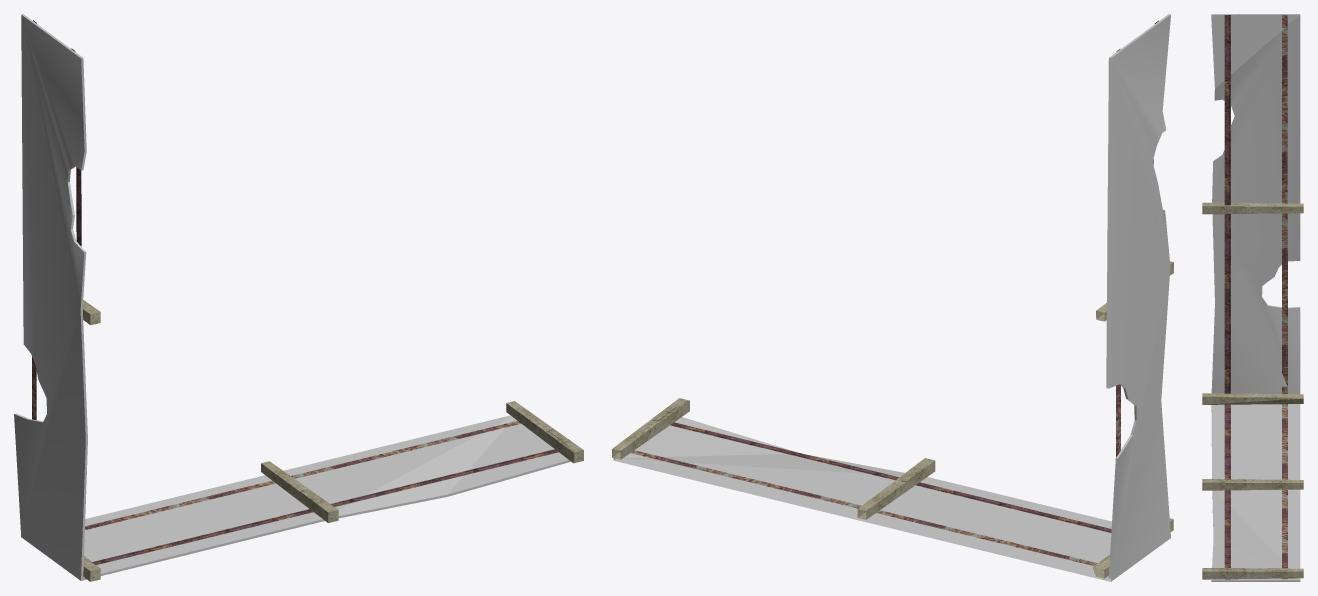
File: zaun_blech_45grad.fbx
The picture shows the model from 3 angles, left to right: view 1: azimuth 30°, elevation 25°; view 2: azimuth 150°, elevation 25°; view 3: azimuth 270°, elevation 25°; orthographic projection. The views are drawn at different scales.
Parts seen in each view (by area): view 1: Object031; view 2: Object031; view 3: Object031.
Boxes of the visible parts, x1,y1,x2,y2 form: Object031: [14, 14, 583, 581]; Object031: [612, 14, 1173, 581]; Object031: [1202, 14, 1303, 581].
Size of the model in its own units: 15.48 by 15.54 by 3.63.
